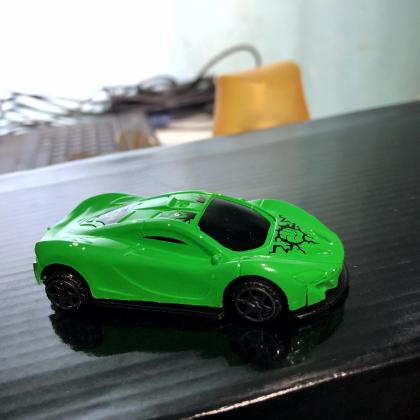Car: (28, 181, 354, 335)
